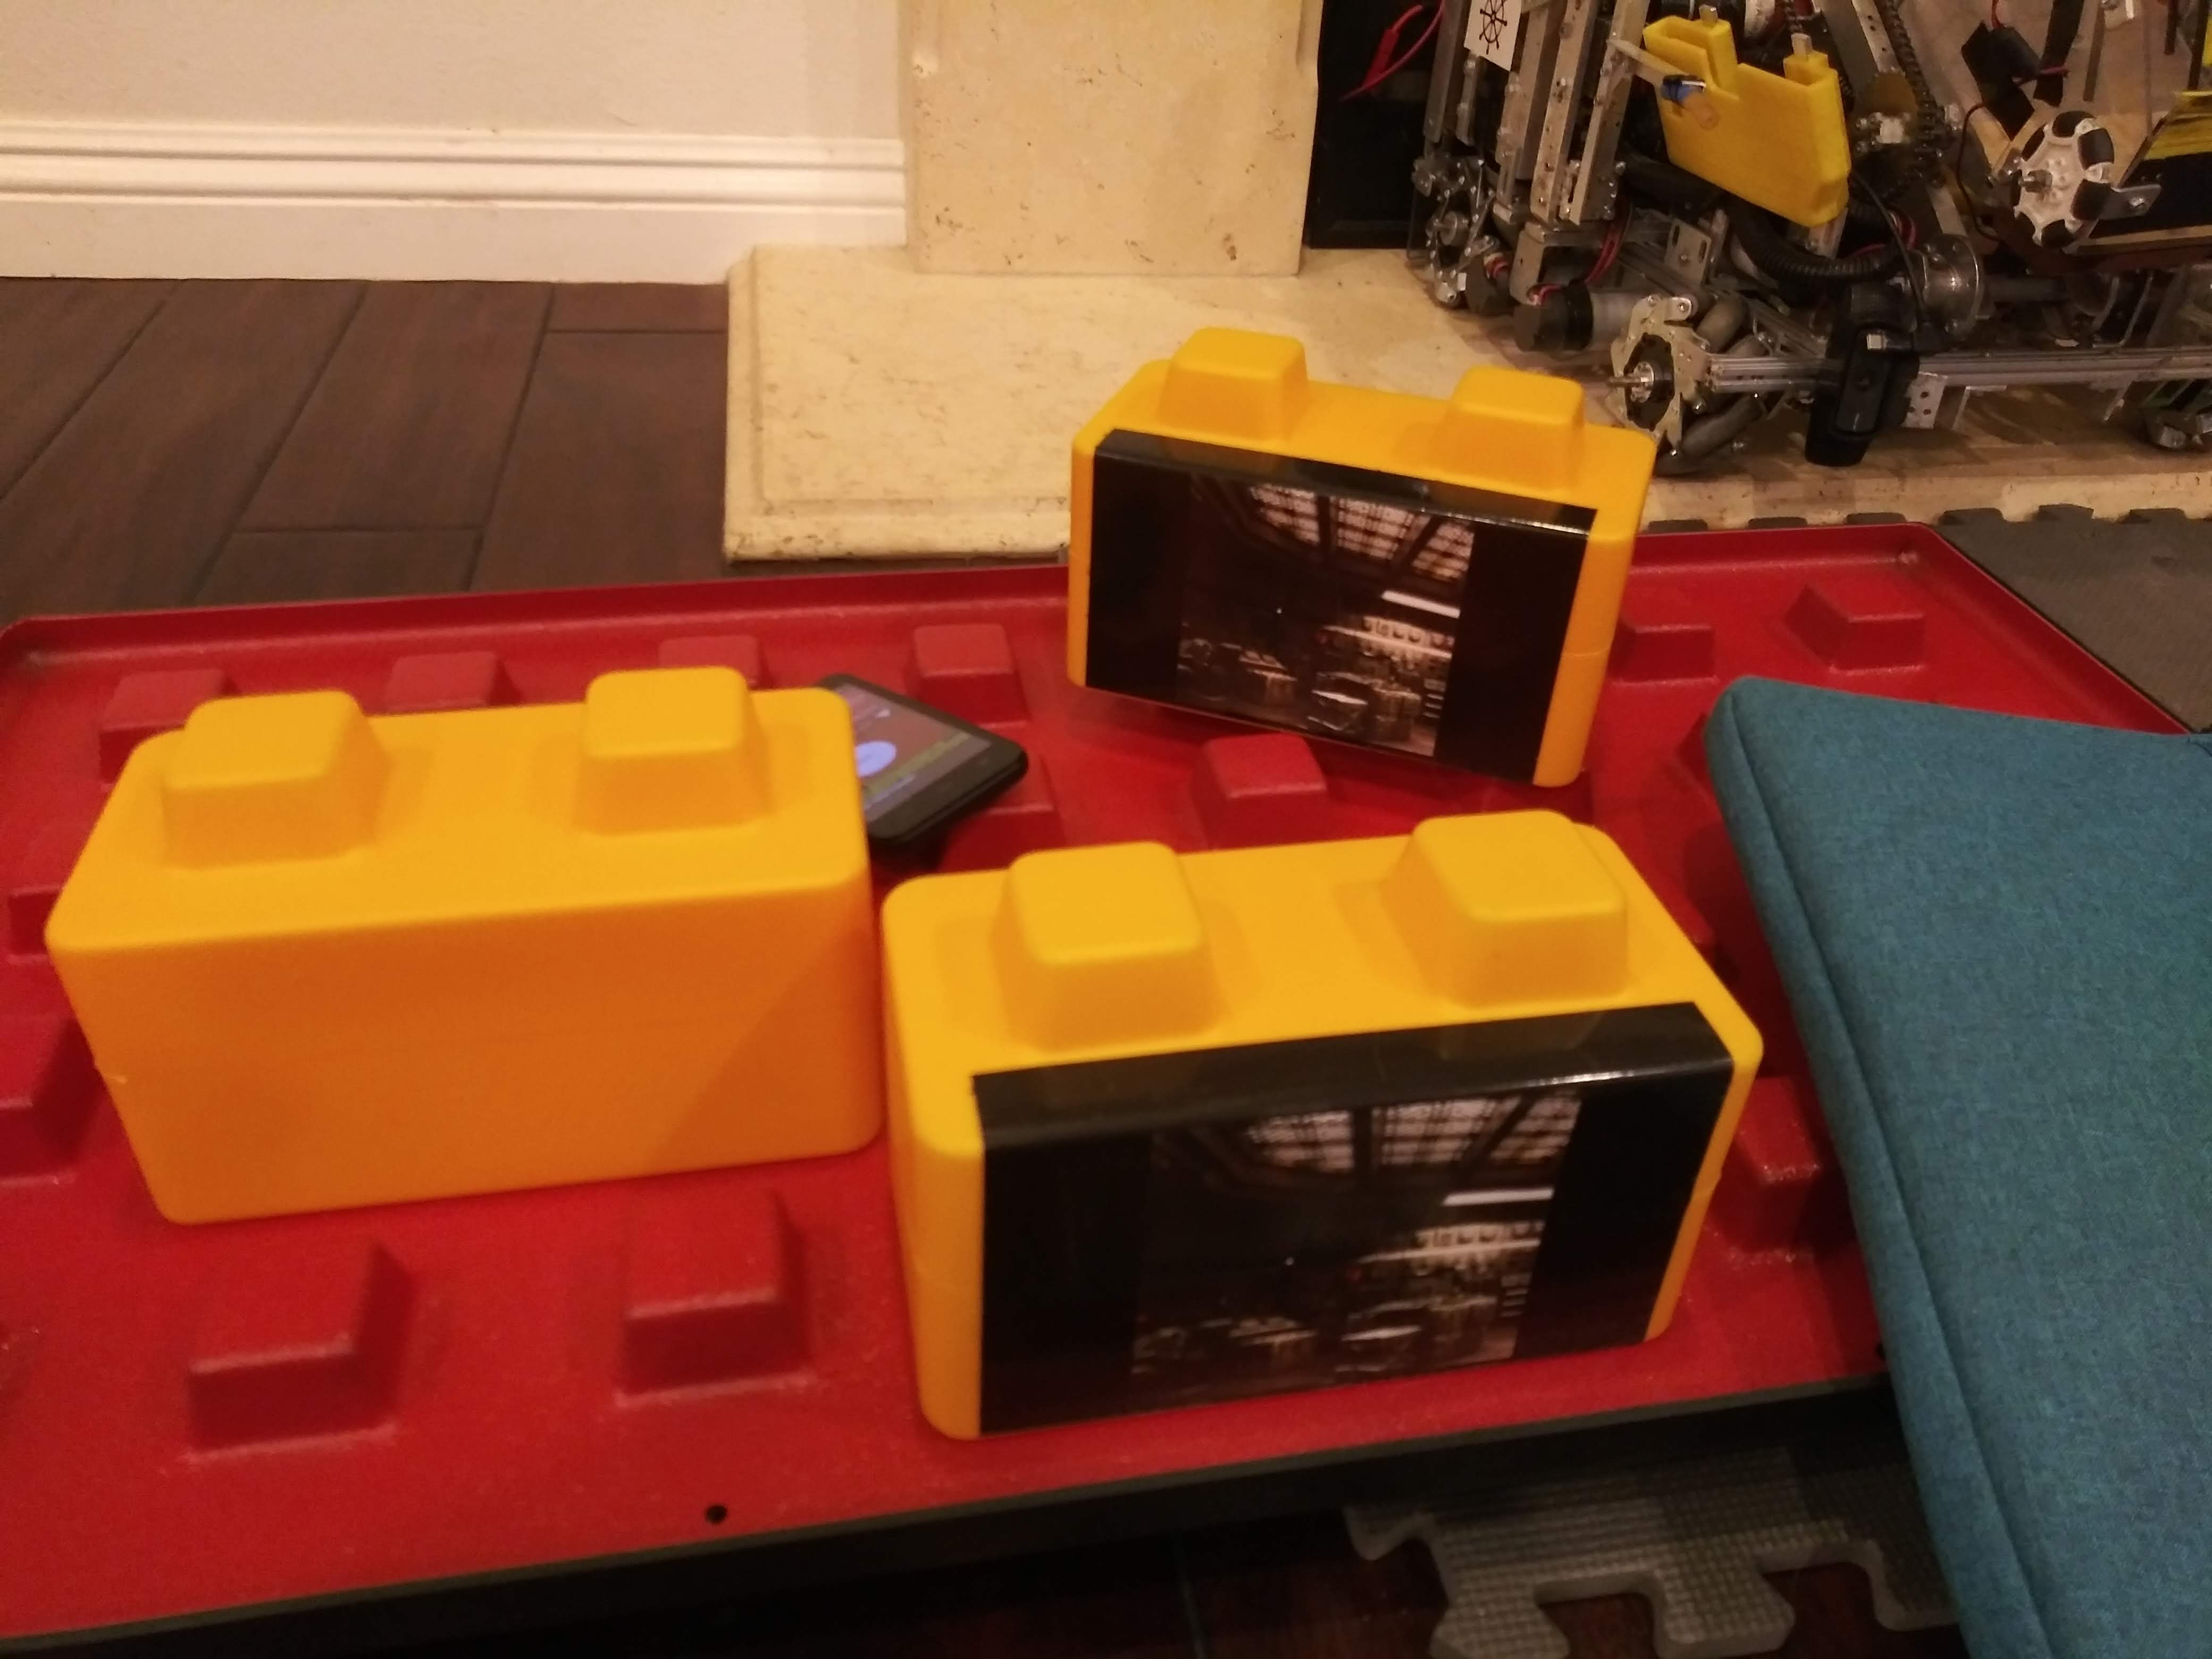skystone: (897, 889, 1716, 1419), (1043, 373, 1595, 749)
stone: (77, 718, 871, 1178)
